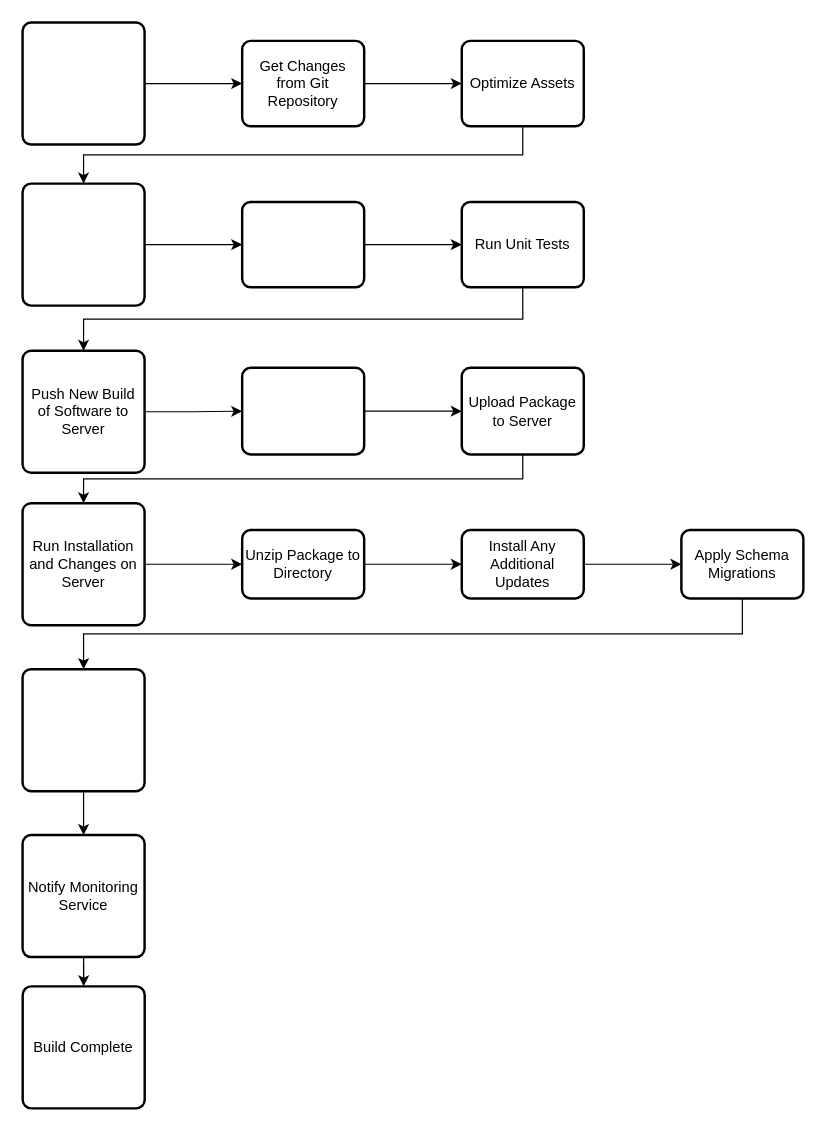
Image size: 825x1130. Some labels were removed from this diagram. Here are the shapes that lost their labels. From the top down, the centre of each, then its label:
[83,83]: Build Software
[83,244]: Test Software
[302,244]: Run Integration Tests
[302,410]: Create Deployment Package
[83,729]: Restart Service
